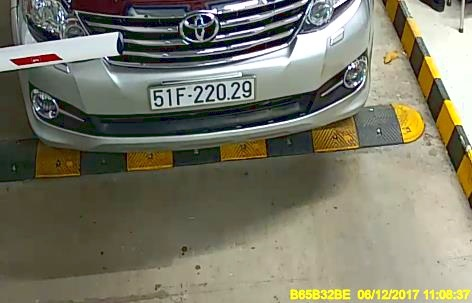plate: (146, 72, 260, 114)
